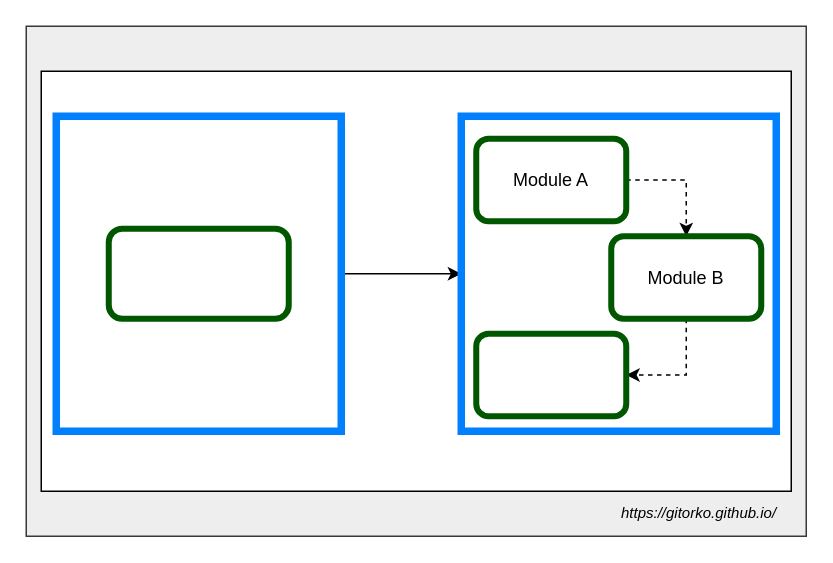
This 833x563 diagram has some shape labels left out. Here are the shapes that lost their labels. From the top down, the centre of each, then its label:
At point 198,273: "Monolith".
At point 550,374: "Module C".
